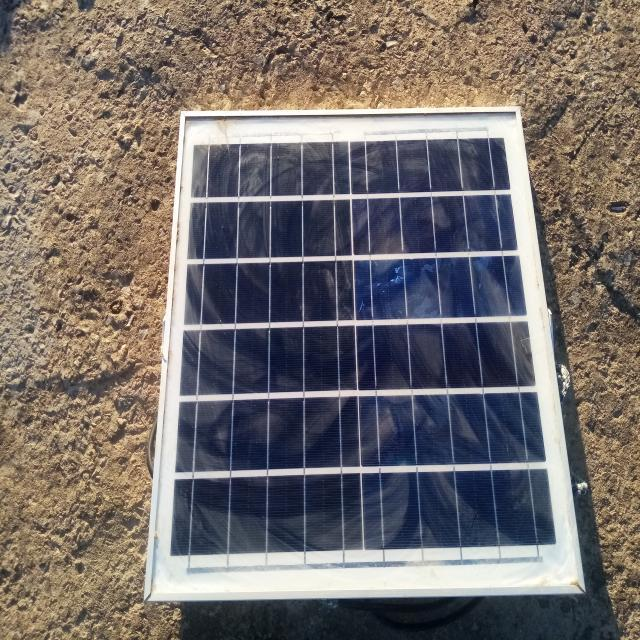faulty: (145, 109, 582, 597)
